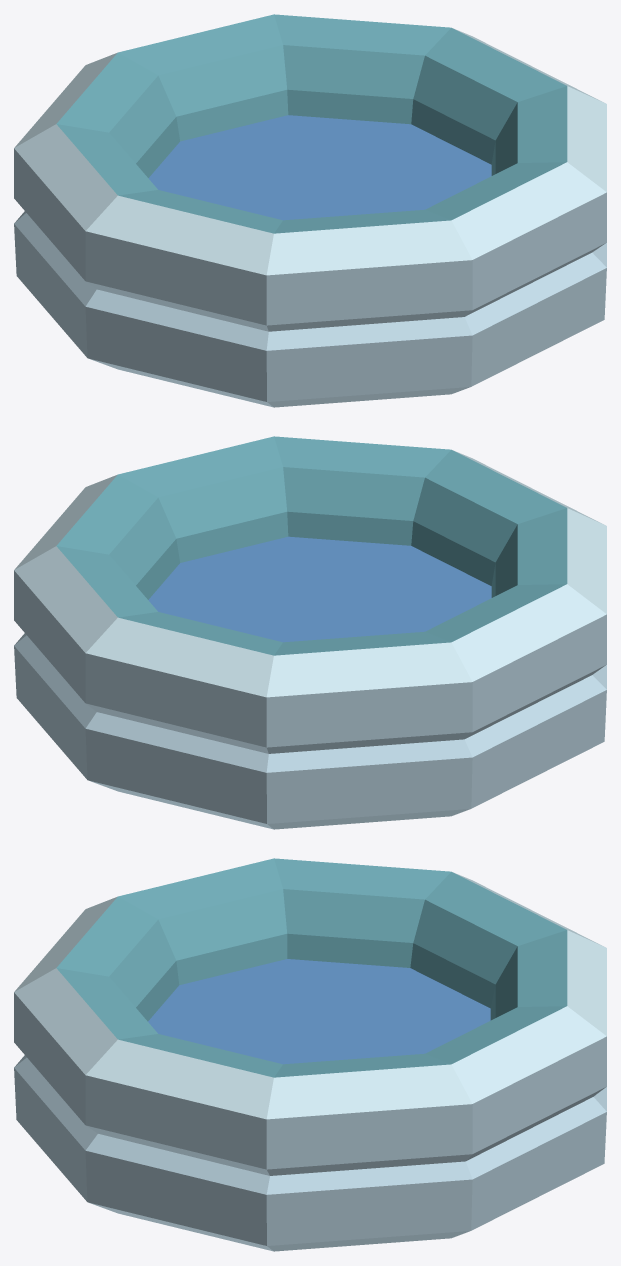
The model's file is SM_Prop_Pool_Child_01.fbx.
3 views of the same model, one above another, from view 1: azimuth 30°, elevation 25°; view 2: azimuth 150°, elevation 25°; view 3: azimuth 270°, elevation 25° (orthographic).
Visible parts, largest first — view 1: SM_Prop_Pool_Child_01, SM_Prop_Pool_Child_Water_01; view 2: SM_Prop_Pool_Child_01, SM_Prop_Pool_Child_Water_01; view 3: SM_Prop_Pool_Child_01, SM_Prop_Pool_Child_Water_01.
Part boxes in pixels (bbox=[...]): SM_Prop_Pool_Child_01: bbox=[14, 14, 606, 407]; SM_Prop_Pool_Child_Water_01: bbox=[148, 115, 491, 220]; SM_Prop_Pool_Child_01: bbox=[14, 436, 606, 829]; SM_Prop_Pool_Child_Water_01: bbox=[148, 536, 491, 642]; SM_Prop_Pool_Child_01: bbox=[14, 858, 606, 1251]; SM_Prop_Pool_Child_Water_01: bbox=[148, 959, 490, 1064].
Size of the model in its own units: 219 by 69.85 by 216.
